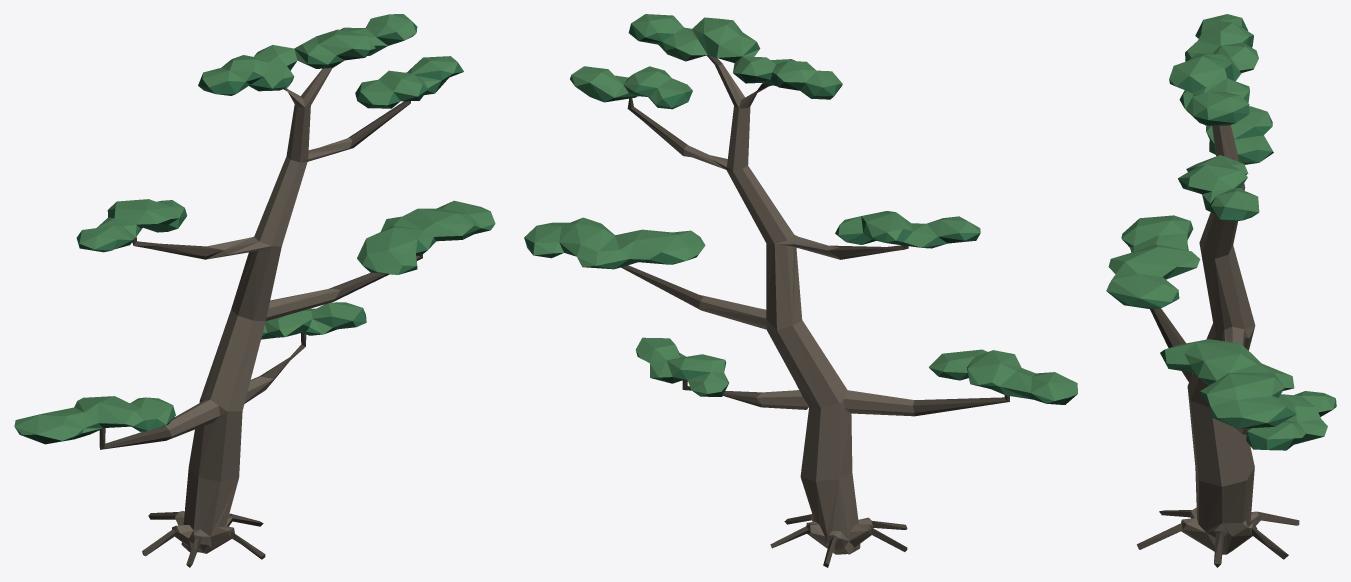
Rendered from ancient-pine-1428-lod2.glb.
The picture shows the model from 3 angles, left to right: view 1: azimuth 30°, elevation 25°; view 2: azimuth 150°, elevation 25°; view 3: azimuth 270°, elevation 25°; orthographic projection. The views are drawn at different scales.
Parts seen in each view (by area): view 1: n8.006, n12.006, n9.006, n11.006, n10.006; view 2: n8.006, n12.006, n9.006, n11.006, n10.006; view 3: n12.006, n8.006, n11.006, n9.006, n10.006.
Part boxes in pixels (x1,y1,x2,y2): n8.006: (165,68,352,553); n12.006: (14,14,495,440); n9.006: (99,88,422,567); n11.006: (76,21,494,435); n10.006: (15,34,489,444); n8.006: (683,64,914,554); n12.006: (524,14,1077,400); n9.006: (621,55,1009,567); n11.006: (524,23,1053,403); n10.006: (533,37,1077,404); n12.006: (1106,14,1335,439); n8.006: (1181,125,1260,554); n11.006: (1107,18,1336,450); n9.006: (1137,308,1299,567); n10.006: (1108,68,1332,449).
Bounding box in the file's own units: 5.86 × 5.44 × 2.01.
